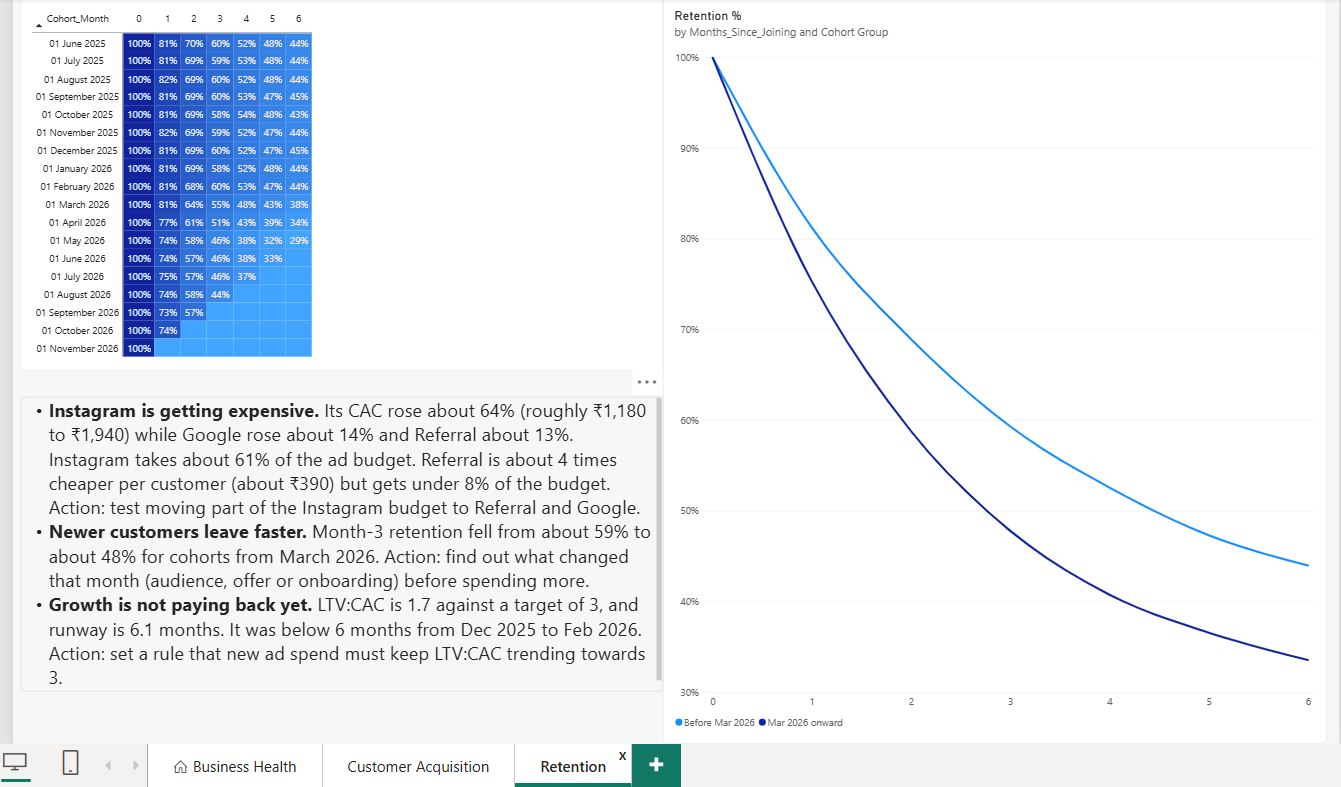

The dashboard page shown, as its layout file describes it:
{"tool":"powerbi","page":{"name":"Retention","canvas":[1920,1080],"ordinal":2},"visuals":[{"type":"pivotTable","fields":{"Columns":["cohort_long.Months_Since_Joining"],"Rows":["cohort_long.Cohort_Month"],"Values":["cohort_long.Retention %"]},"box":[10.9,0,930.2,539.3],"z":0},{"type":"lineChart","fields":{"Category":["cohort_long.Months_Since_Joining"],"Series":["cohort_long.Cohort Group"],"Y":["cohort_long.Retention %"]},"box":[941,0,960.9,1080.4],"z":1},{"type":"textbox","box":[10.9,577.3,930.2,427.1],"z":2}]}

Visuals, with their boxes on the page's 1920x1080 design canvas (x1, y1, x2, y2). These are canvas units, not pixel positions in the 1341x787 screenshot, which may show the page scaled, cropped or inside an application window:
pivotTable - cohort_long.Months_Since_Joining x cohort_long.Cohort_Month: locate(11, 0, 941, 539)
lineChart - cohort_long.Months_Since_Joining x cohort_long.Cohort Group: locate(941, 0, 1902, 1080)
textbox: locate(11, 577, 941, 1004)
